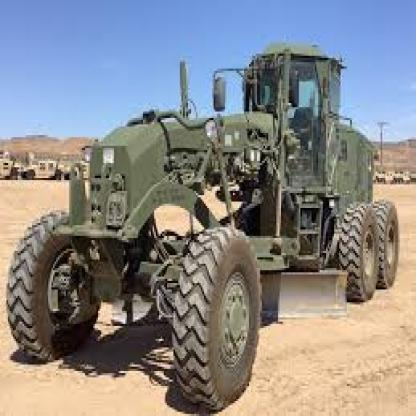bull_dozer/loader/grader: (11, 23, 414, 396)
